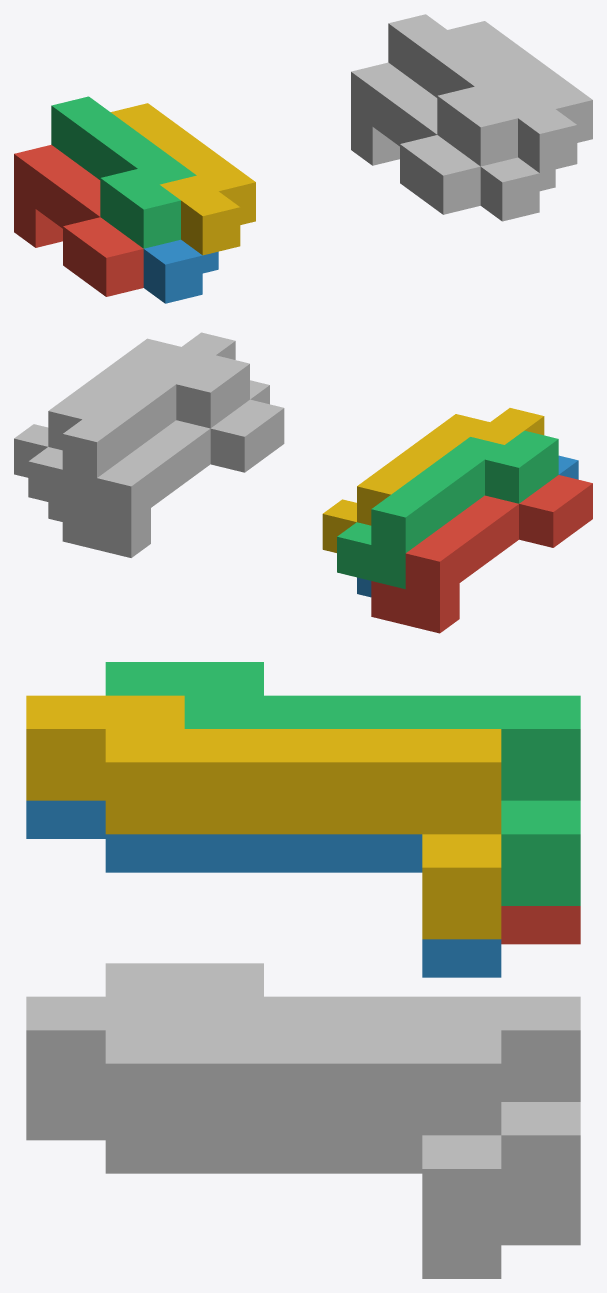
File: tiling.obj
The picture shows the model from 3 angles, top to bottom: view 1: azimuth 30°, elevation 25°; view 2: azimuth 150°, elevation 25°; view 3: azimuth 270°, elevation 25°; orthographic projection. The views are drawn at different scales.
Parts seen in each view (by area): view 1: copy_1_domain_5, copy_1_domain_1, copy_1_domain_3, copy_1_domain_7, copy_1_domain_8, copy_1_domain_4, copy_1_domain_2, copy_1_domain_6; view 2: copy_1_domain_3, copy_1_domain_7, copy_1_domain_1, copy_1_domain_5, copy_1_domain_4, copy_1_domain_8, copy_1_domain_2, copy_1_domain_6; view 3: copy_1_domain_8, copy_1_domain_4, copy_1_domain_7, copy_1_domain_3, copy_1_domain_2, copy_1_domain_6, copy_1_domain_1, copy_1_domain_5.
Part boxes in pixels (x1,y1,x2,y2): copy_1_domain_5: [351, 62, 480, 214]; copy_1_domain_1: [14, 144, 143, 296]; copy_1_domain_3: [51, 96, 196, 248]; copy_1_domain_7: [388, 14, 533, 166]; copy_1_domain_8: [448, 21, 592, 172]; copy_1_domain_4: [111, 103, 255, 255]; copy_1_domain_2: [143, 239, 218, 303]; copy_1_domain_6: [480, 157, 555, 221]; copy_1_domain_3: [337, 430, 558, 589]; copy_1_domain_7: [28, 355, 249, 513]; copy_1_domain_1: [371, 475, 592, 633]; copy_1_domain_5: [62, 399, 284, 557]; copy_1_domain_4: [322, 408, 544, 552]; copy_1_domain_8: [14, 332, 235, 477]; copy_1_domain_2: [357, 455, 578, 597]; copy_1_domain_6: [48, 380, 269, 521]; copy_1_domain_8: [26, 996, 501, 1240]; copy_1_domain_4: [26, 695, 501, 939]; copy_1_domain_7: [105, 963, 580, 1207]; copy_1_domain_3: [105, 662, 580, 905]; copy_1_domain_2: [26, 800, 501, 977]; copy_1_domain_6: [26, 1102, 501, 1278]; copy_1_domain_1: [501, 906, 580, 944]; copy_1_domain_5: [501, 1207, 580, 1245].
Size of the model in its own units: 14 by 3 by 7.
